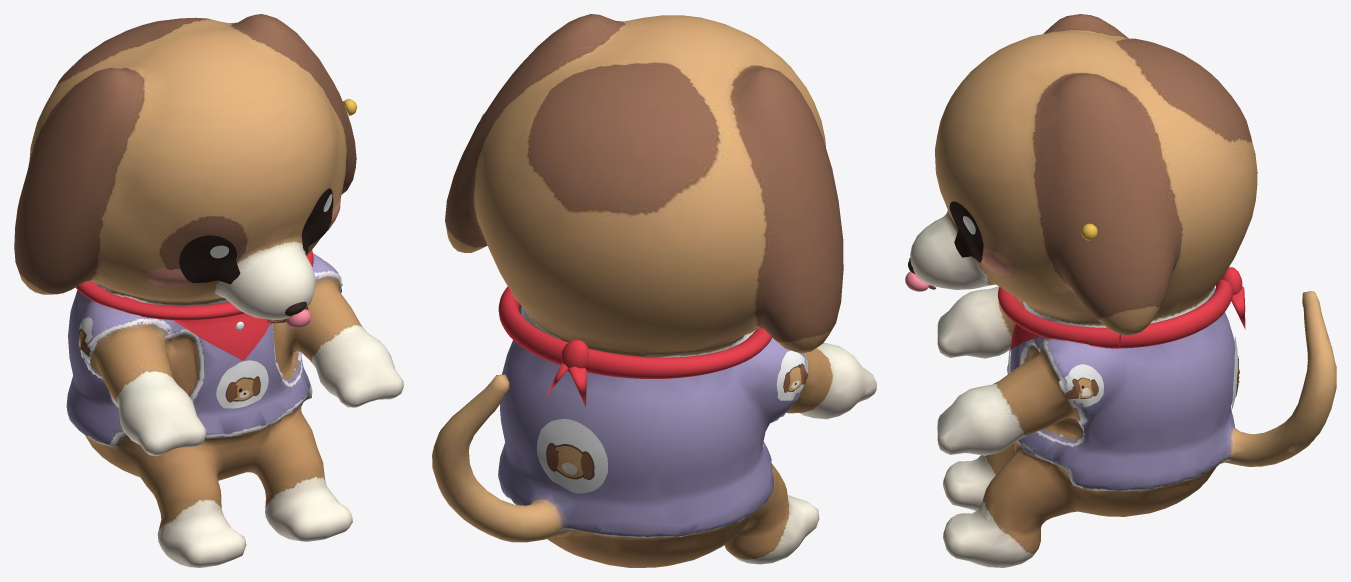
The model's file is dog.glb.
3 views of the same model, side by side, from view 1: azimuth 30°, elevation 25°; view 2: azimuth 150°, elevation 25°; view 3: azimuth 270°, elevation 25° (orthographic). The views are drawn at different scales.
Parts seen in each view (by area): view 1: chibi, face; view 2: chibi, face; view 3: chibi, face.
Part boxes in pixels (bbox=[...]): chibi: bbox=[14, 14, 403, 567]; face: bbox=[75, 99, 357, 408]; chibi: bbox=[432, 14, 876, 567]; face: bbox=[480, 113, 807, 493]; chibi: bbox=[910, 14, 1336, 567]; face: bbox=[905, 201, 1245, 408].
Bounding box in the file's own units: 0.8021 × 1.13 × 0.9025.
33 materials, 1 textured.
